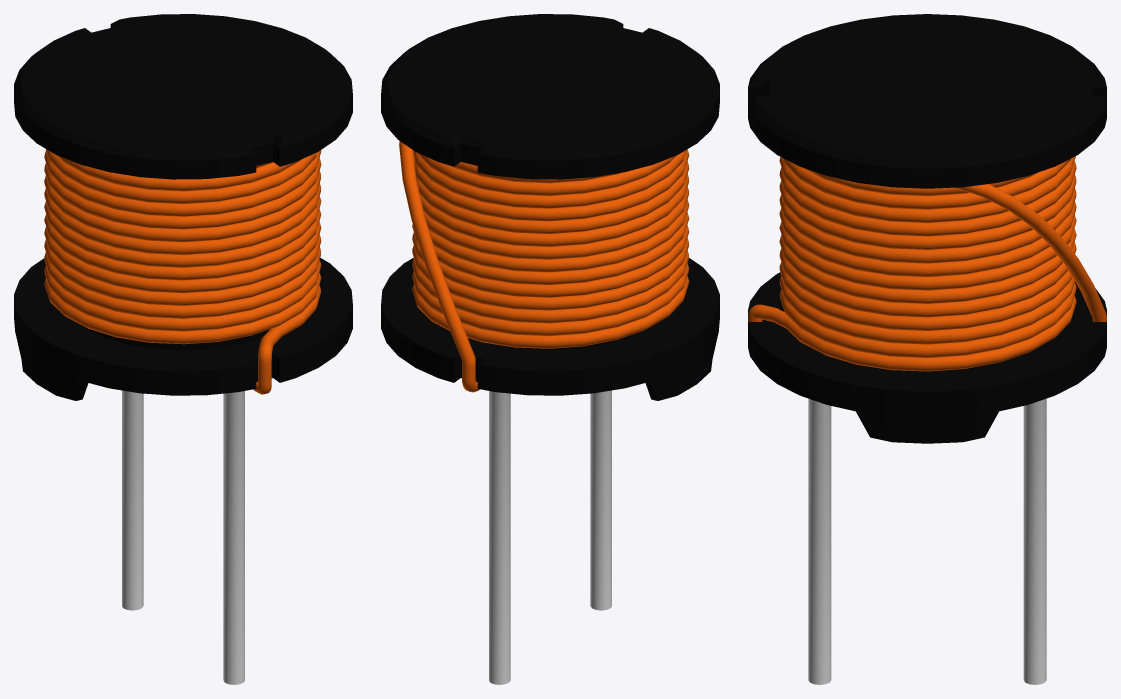
Rendered from inductor.glb.
3 renders of one model, left to right at view 1: azimuth 30°, elevation 25°; view 2: azimuth 150°, elevation 25°; view 3: azimuth 270°, elevation 25°, orthographic. The views are drawn at different scales.
Visible parts, largest first — view 1: Inductor-Radial, Wire, Legs.009; view 2: Inductor-Radial, Wire, Legs.009; view 3: Inductor-Radial, Wire, Legs.009.
Part boxes in pixels (<box>): Inductor-Radial: <box>14,14,352,400</box>; Wire: <box>44,149,321,394</box>; Legs.009: <box>122,390,244,684</box>; Inductor-Radial: <box>381,14,719,400</box>; Wire: <box>399,141,689,392</box>; Legs.009: <box>489,390,611,684</box>; Inductor-Radial: <box>748,14,1106,443</box>; Wire: <box>748,156,1106,371</box>; Legs.009: <box>808,398,1046,684</box>.
Bounding box in the file's own units: 0.0125 × 0.0228 × 0.0125.
